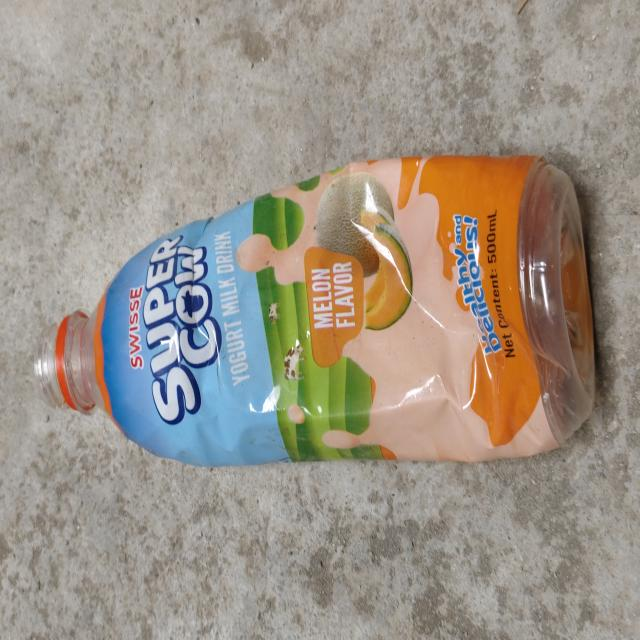Bottle: (34, 156, 595, 466)
